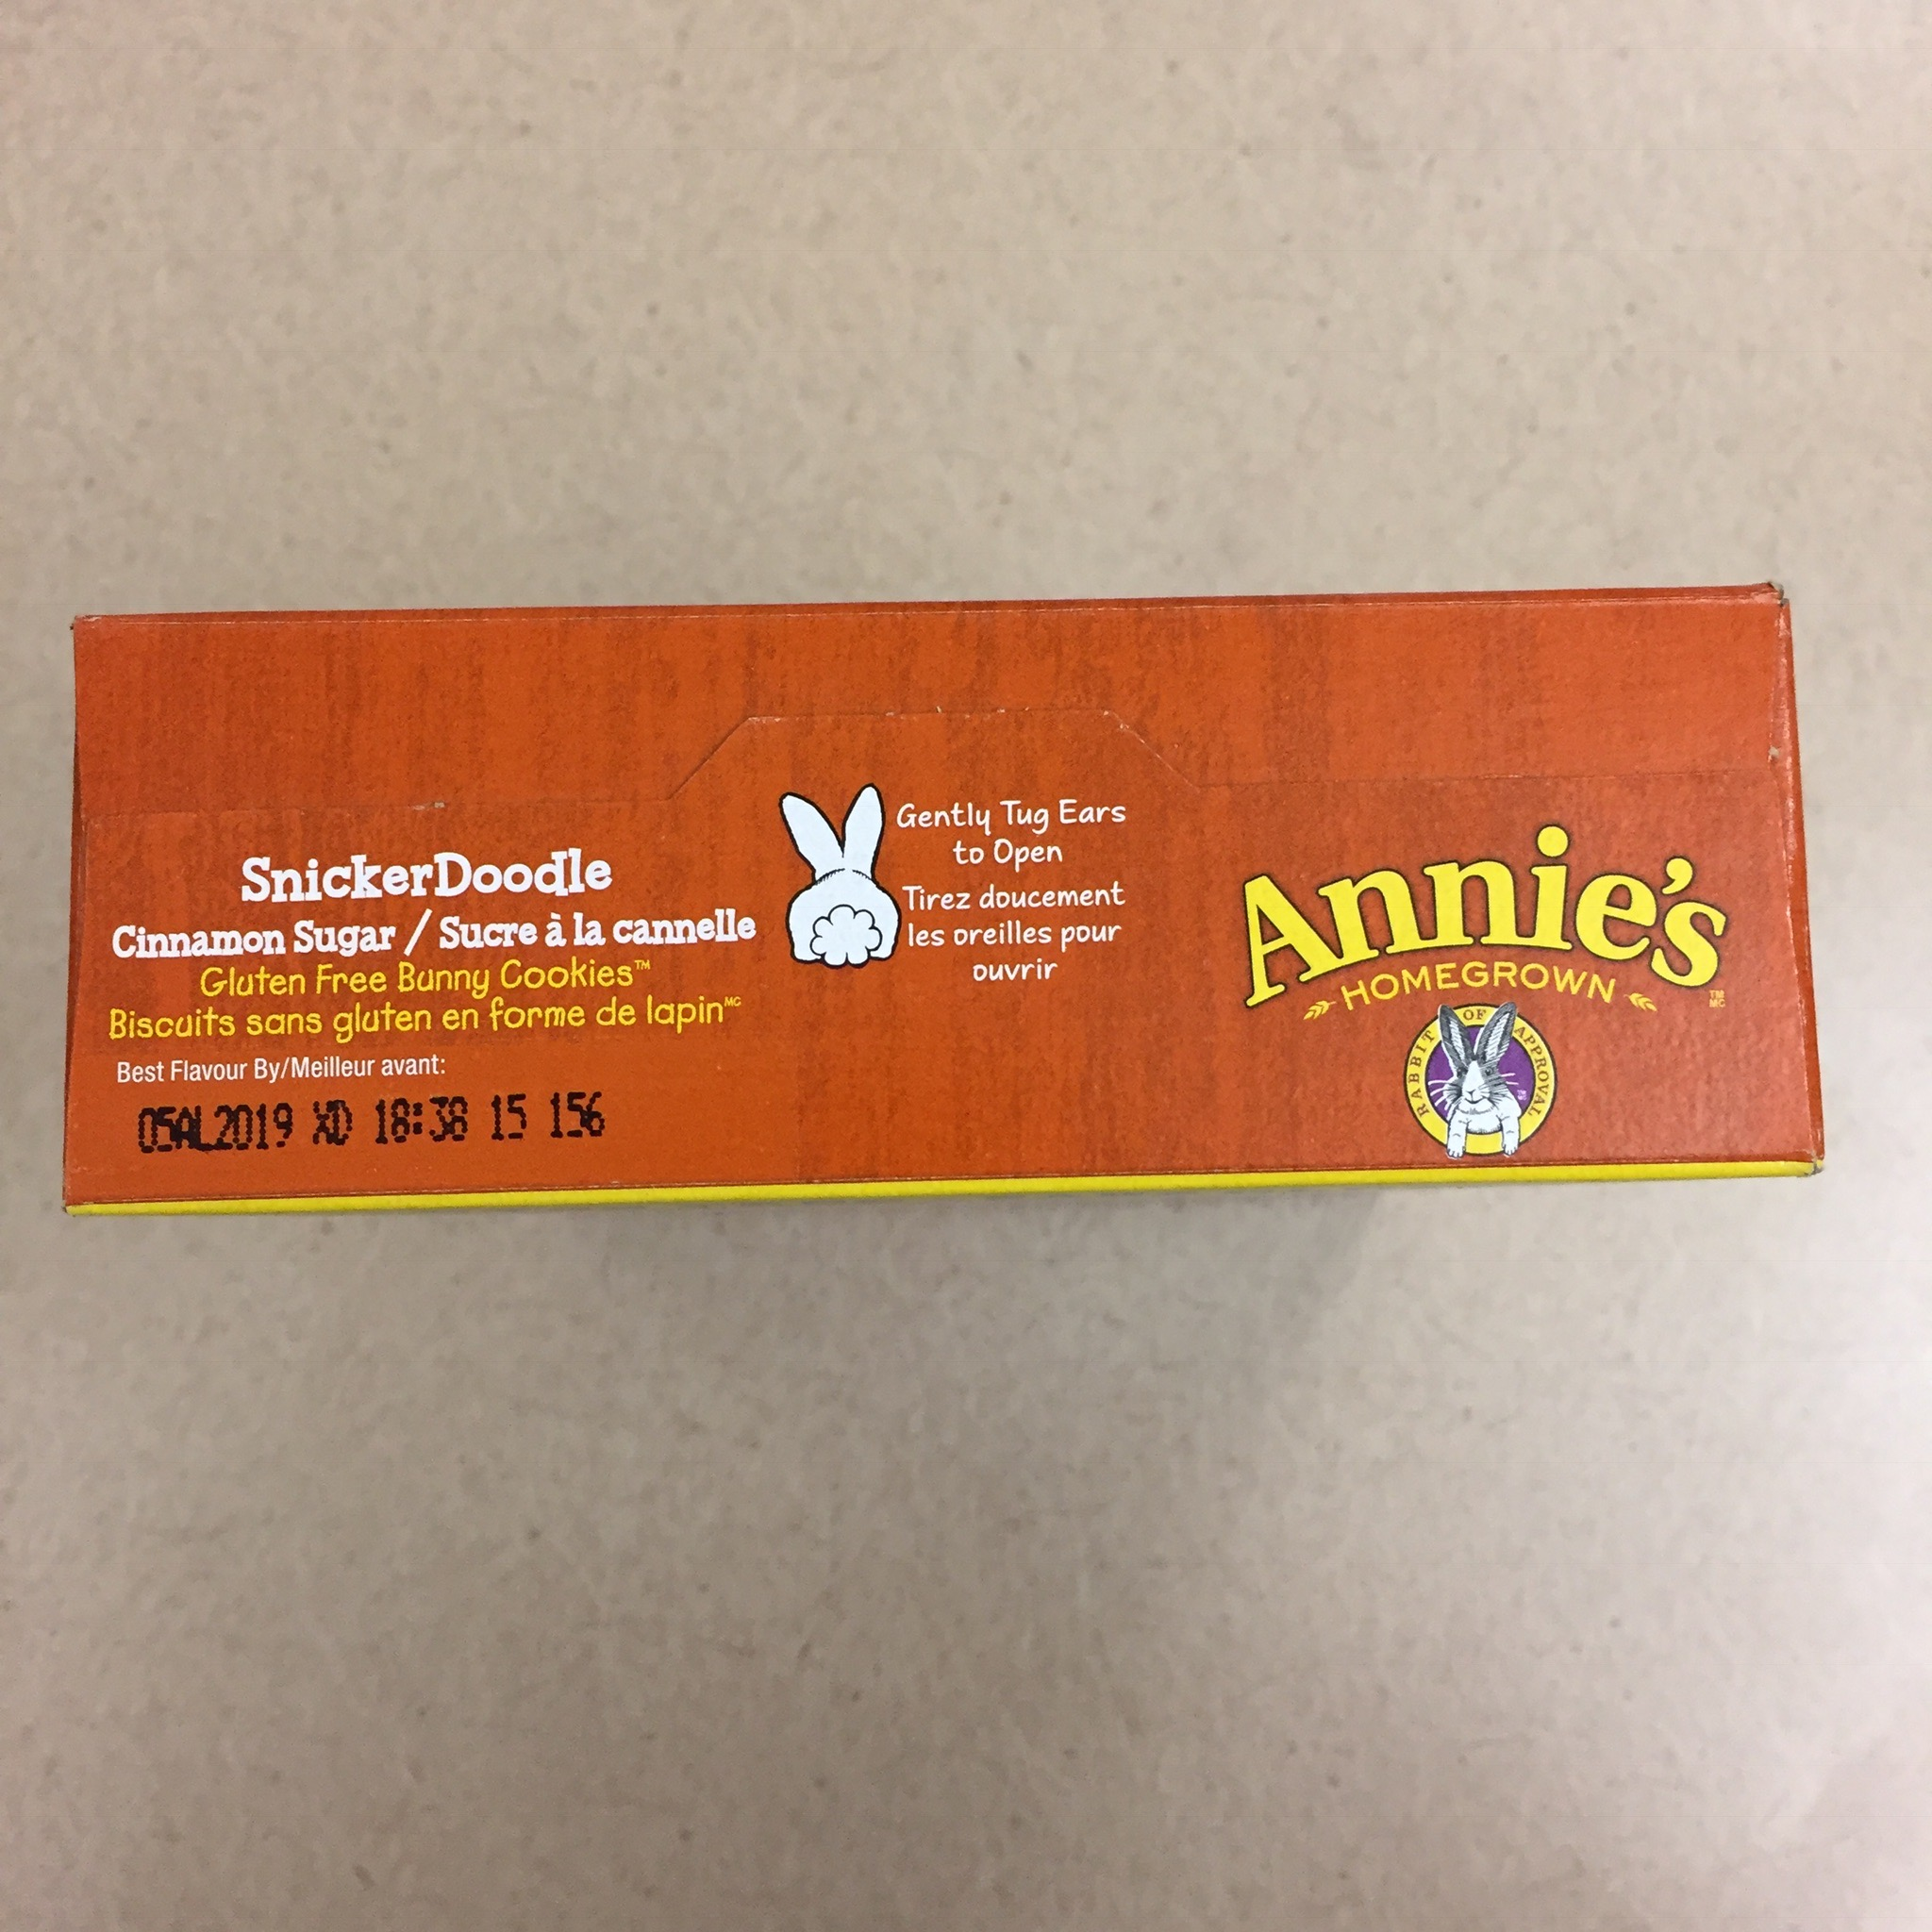annies_snickerdoodle_cinnamon_sugar: (53, 579, 1829, 1221)
